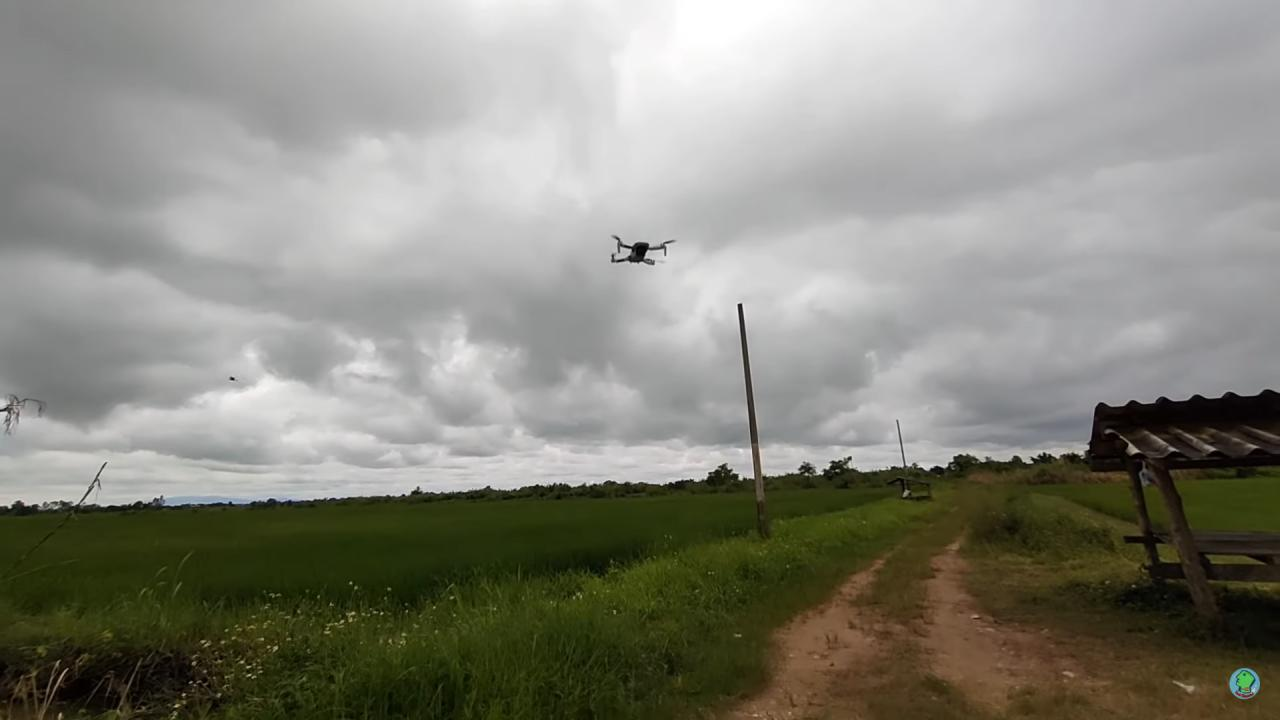Drone: (600, 227, 682, 275)
